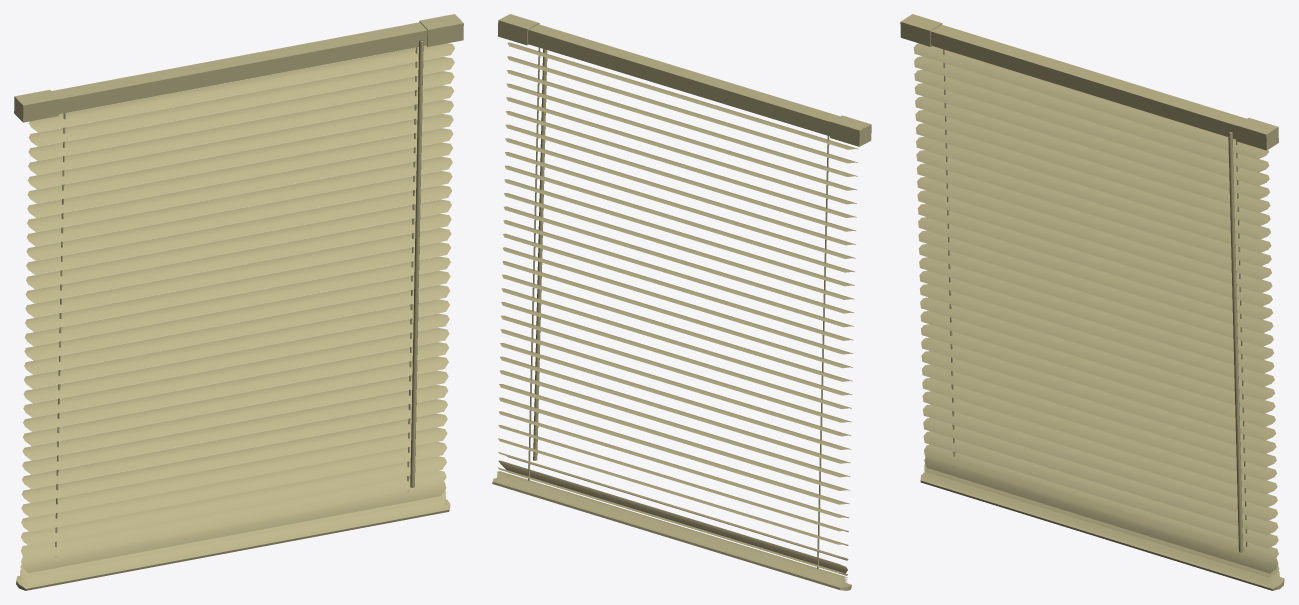
The model's file is blind.fbx.
The picture shows the model from 3 angles, left to right: view 1: azimuth 30°, elevation 25°; view 2: azimuth 150°, elevation 25°; view 3: azimuth 330°, elevation 25°; orthographic projection. The views are drawn at different scales.
Parts seen in each view (by area): view 1: imagetostl_mesh0; view 2: imagetostl_mesh0; view 3: imagetostl_mesh0.
Boxes of the visible parts, x1,y1,x2,y2 form: imagetostl_mesh0: [14, 14, 463, 590]; imagetostl_mesh0: [492, 14, 871, 590]; imagetostl_mesh0: [900, 14, 1284, 590].
Bounding box in the file's own units: 176 × 200 × 33.32.
